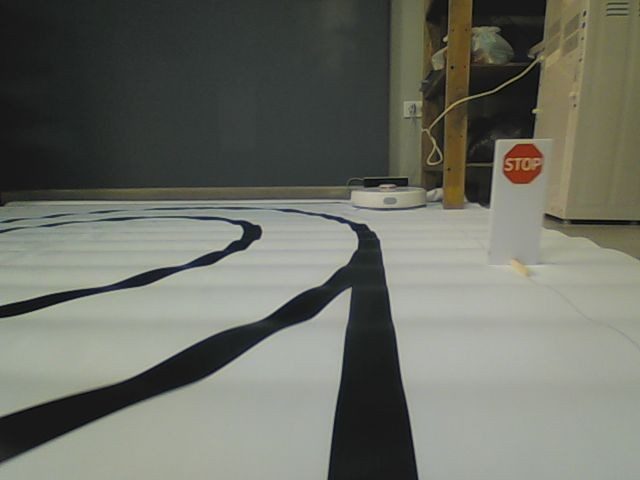Stop: (501, 140, 545, 184)
